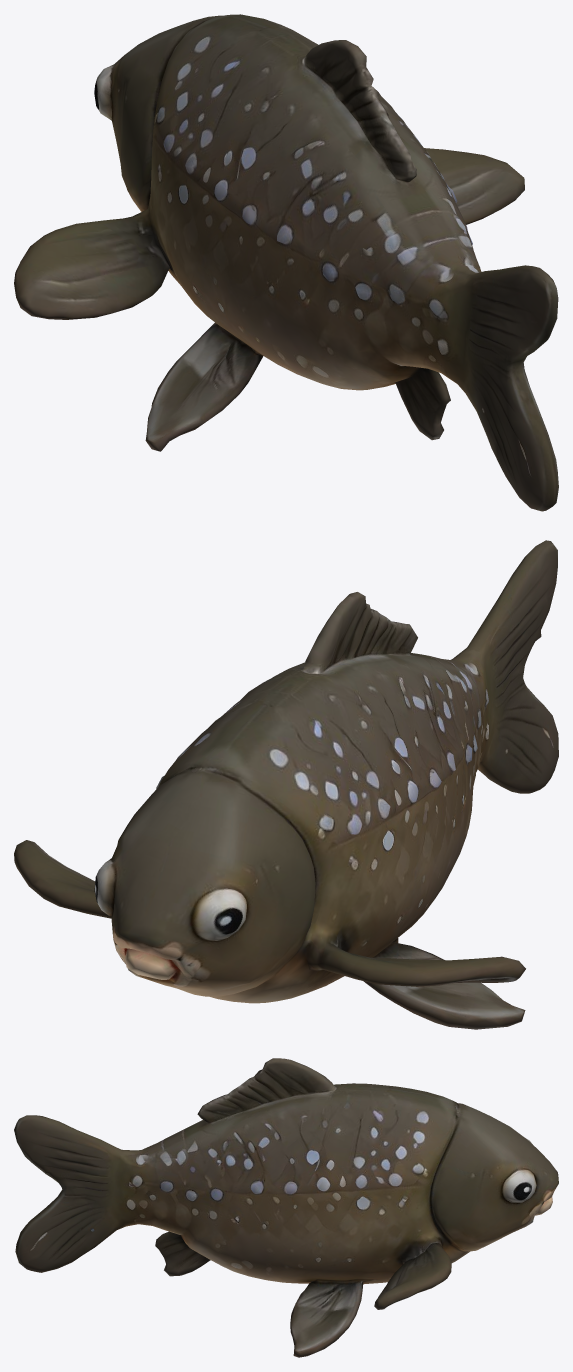
Rendered from mirrorcarp.glb.
3 views of the same model, one above another, from view 1: azimuth 30°, elevation 25°; view 2: azimuth 150°, elevation 25°; view 3: azimuth 270°, elevation 25° (orthographic). The views are drawn at different scales.
Visible parts, largest first — view 1: tripo_node_3f234ce0-7b9e-4946-b9bc-23d8823d20b2; view 2: tripo_node_3f234ce0-7b9e-4946-b9bc-23d8823d20b2; view 3: tripo_node_3f234ce0-7b9e-4946-b9bc-23d8823d20b2.
Boxes of the visible parts, x1=… form: tripo_node_3f234ce0-7b9e-4946-b9bc-23d8823d20b2: x1=14, y1=14, x2=558, y2=511; tripo_node_3f234ce0-7b9e-4946-b9bc-23d8823d20b2: x1=14, y1=540, x2=558, y2=1029; tripo_node_3f234ce0-7b9e-4946-b9bc-23d8823d20b2: x1=14, y1=1058, x2=558, y2=1357.
Size of the model in its own units: 0.6936 by 0.4942 by 1.
Materials: 1 (1 with a texture image).
